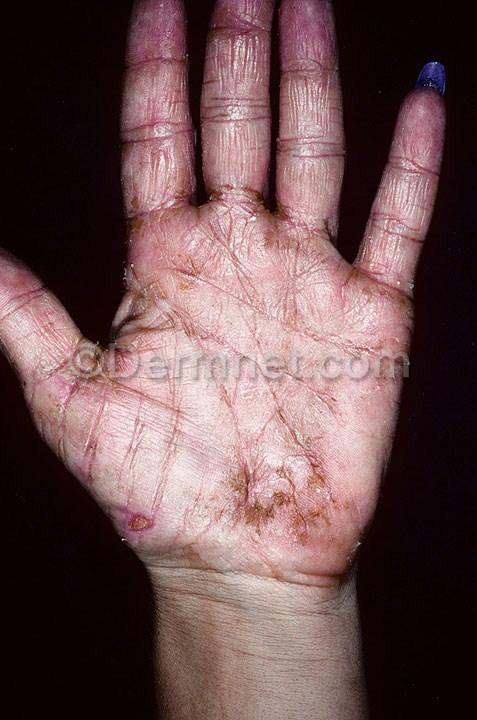Eczema: (158, 288, 290, 434), (240, 424, 368, 559), (28, 302, 148, 440), (116, 436, 239, 554), (300, 302, 414, 418), (128, 227, 225, 299), (265, 15, 333, 88), (275, 127, 342, 201), (231, 214, 295, 280), (205, 23, 273, 84), (205, 114, 259, 180), (359, 224, 413, 287), (396, 121, 440, 197), (137, 139, 189, 196), (134, 34, 177, 99)
